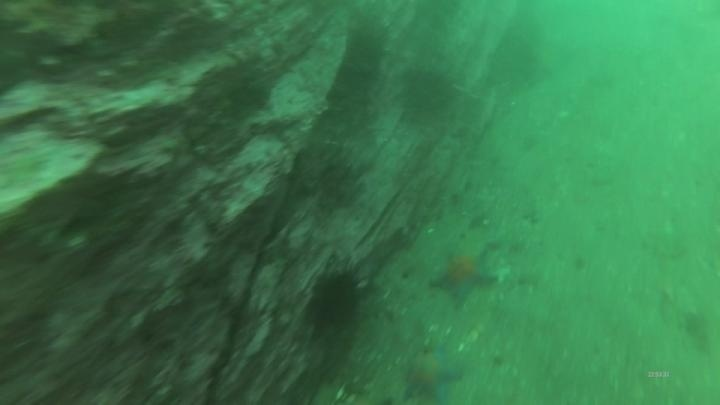echinus: (304, 263, 371, 337), (395, 63, 460, 124)
starfish: (426, 242, 501, 310), (399, 342, 466, 405)
